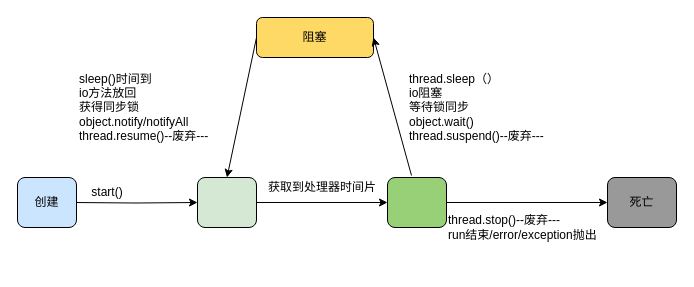
Some shapes in this 694 by 287 pixel diagram are drawn without their labels. The shapes that lost their labels are listed below. From the top down, each one's centre as x and y in pixels, then its label:
pixel 226 202: 就绪
pixel 416 202: 运行
